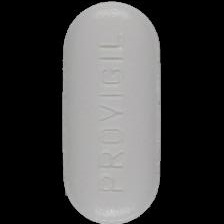54868-4492: (0, 0, 224, 224)
